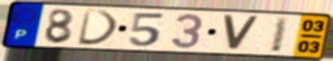3: (169, 12, 205, 50)
5: (127, 12, 168, 48)
8: (44, 8, 77, 45)
D: (75, 8, 121, 47)
I: (268, 16, 291, 54)
V: (221, 13, 262, 53)
